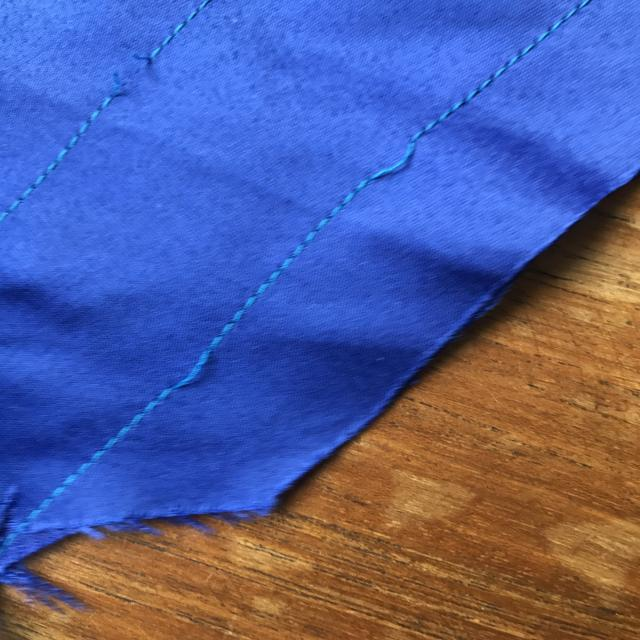skip: (350, 116, 440, 206)
